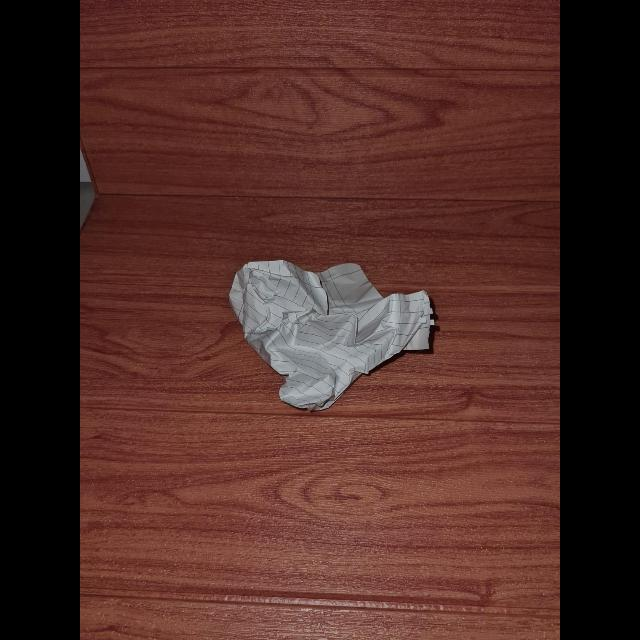scrap_paper: (231, 254, 435, 411)
